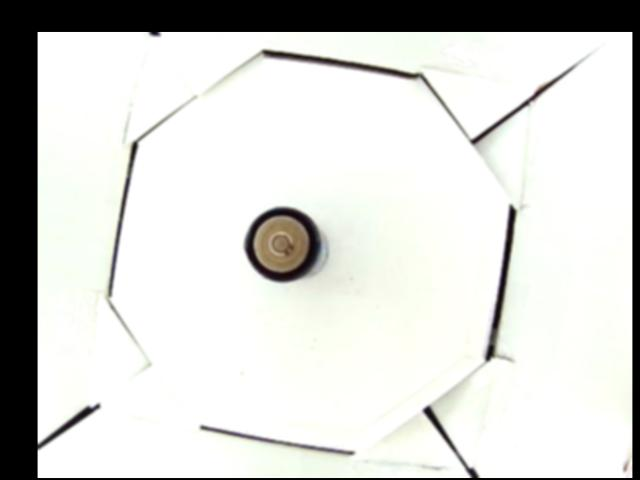Battery: (242, 208, 329, 282)
